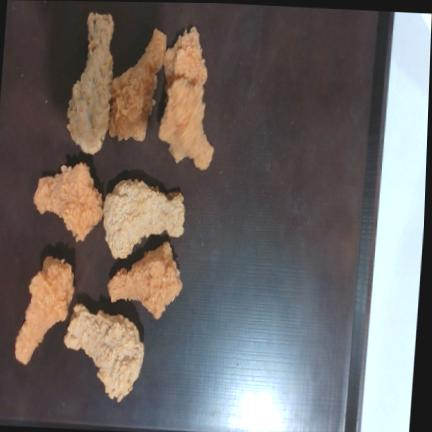chicken: (65, 304, 144, 402), (67, 13, 114, 154), (109, 29, 167, 141), (104, 179, 185, 258), (16, 257, 74, 364), (108, 242, 182, 319), (34, 163, 103, 242), (159, 78, 214, 170)
